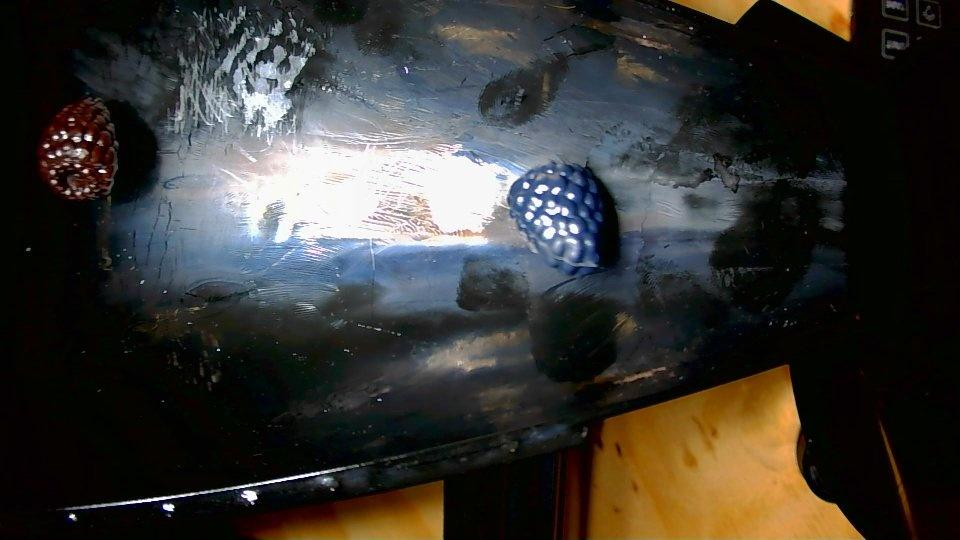berry: (507, 162, 618, 275), (38, 97, 117, 199)
